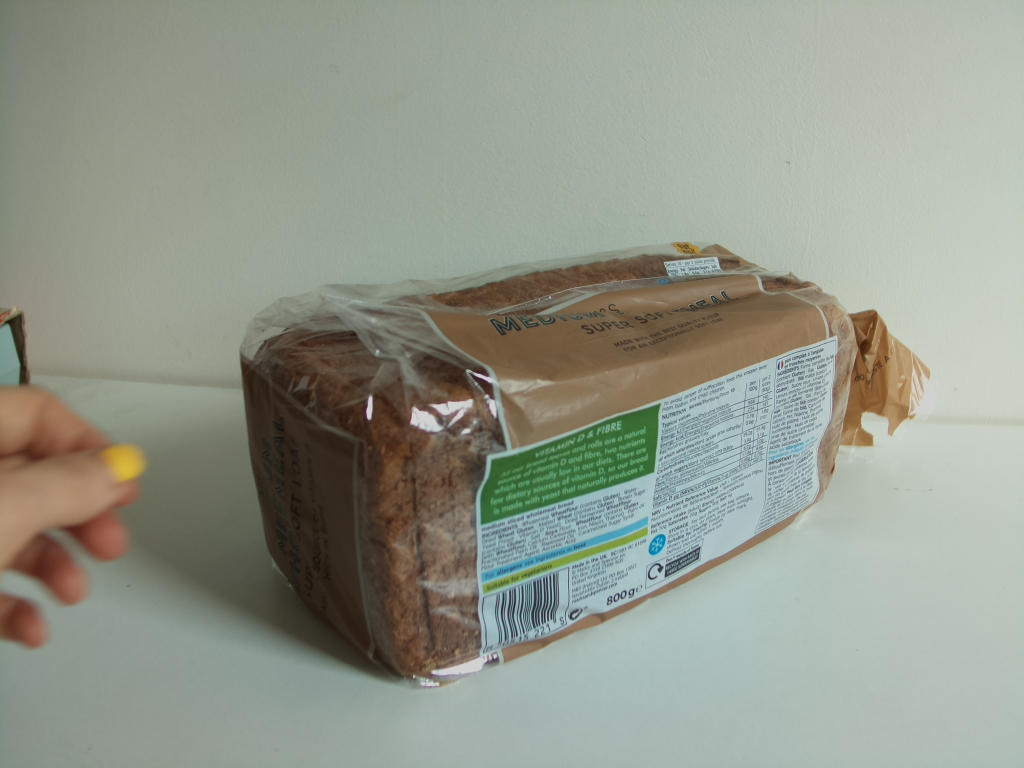bread: (238, 233, 933, 691)
